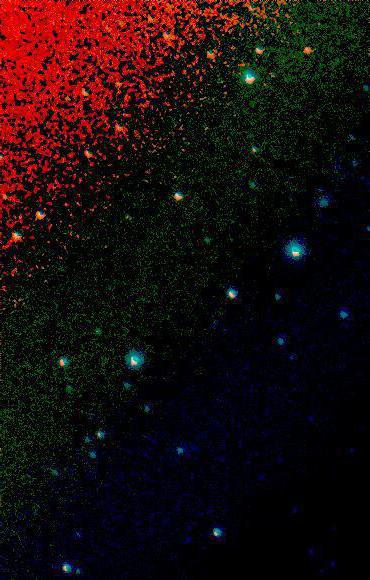star: (288, 35, 318, 65)
